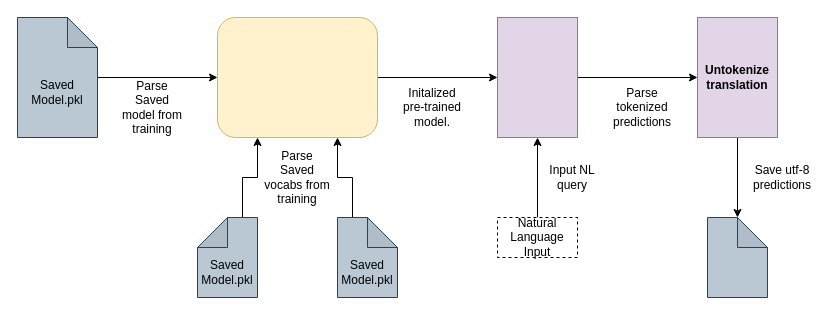
The diagram is 835 pixels wide and 315 high, and some of its shapes have lost their labels. Here are the shapes that lost their labels. From the top down, the box of each, then its label:
(216, 16, 378, 138): Initialize Transformer Model.
(496, 16, 578, 138): Generate Translation
(706, 216, 768, 298): Outputs .txt
